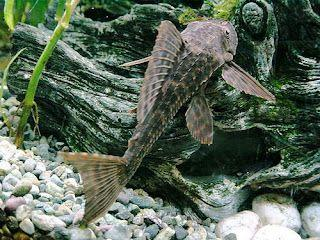Janitor Fish: (57, 11, 278, 228)
